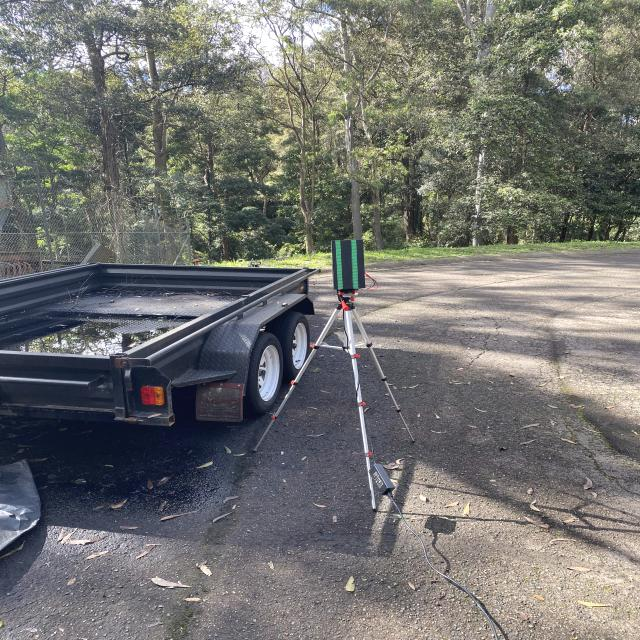matrix: (329, 239, 367, 291)
